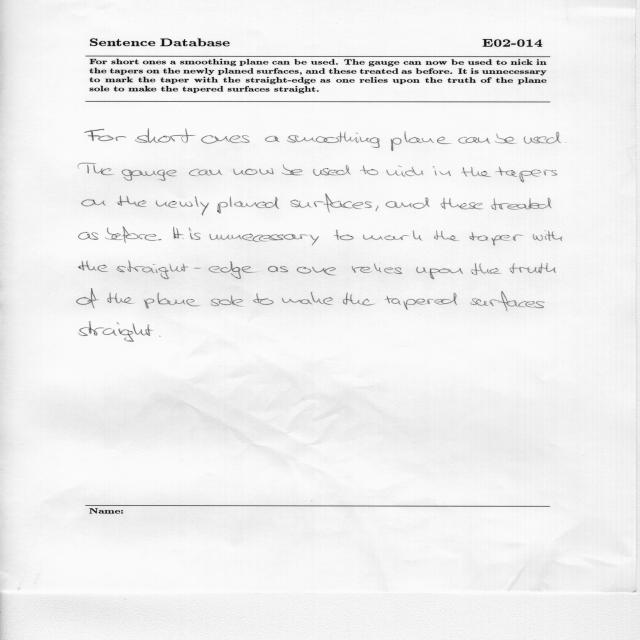word: (117, 261, 257, 279), (287, 132, 380, 148), (471, 291, 545, 311), (290, 194, 372, 212), (209, 234, 319, 246), (384, 293, 458, 310), (391, 131, 451, 151), (79, 322, 134, 342), (217, 197, 279, 214), (156, 197, 209, 216), (144, 292, 200, 309), (497, 167, 558, 182), (135, 129, 196, 143), (105, 227, 158, 242), (492, 198, 552, 210), (469, 232, 524, 245), (282, 292, 333, 305), (122, 169, 177, 181), (363, 231, 423, 241), (416, 267, 463, 279), (385, 197, 430, 209), (352, 264, 402, 274), (85, 129, 126, 141), (441, 198, 484, 209), (510, 263, 556, 273), (524, 132, 561, 144), (201, 135, 250, 144), (77, 289, 99, 309), (78, 163, 114, 175), (313, 165, 351, 176), (343, 293, 375, 306), (387, 166, 424, 177), (211, 295, 243, 307), (471, 263, 501, 275), (117, 196, 147, 207), (533, 231, 562, 242), (79, 261, 108, 272), (297, 267, 336, 275), (461, 167, 491, 177), (107, 293, 134, 304), (233, 168, 274, 175), (434, 230, 459, 241), (132, 323, 153, 336), (253, 293, 274, 305), (189, 169, 223, 176), (495, 133, 516, 144), (282, 165, 303, 176), (459, 137, 491, 144), (334, 230, 354, 240), (82, 199, 106, 207), (360, 165, 378, 175), (433, 166, 451, 176), (189, 227, 201, 240), (79, 232, 98, 240), (173, 227, 184, 239), (268, 266, 288, 272), (265, 136, 280, 142), (376, 206, 379, 211), (158, 239, 161, 240), (525, 136, 526, 137)
